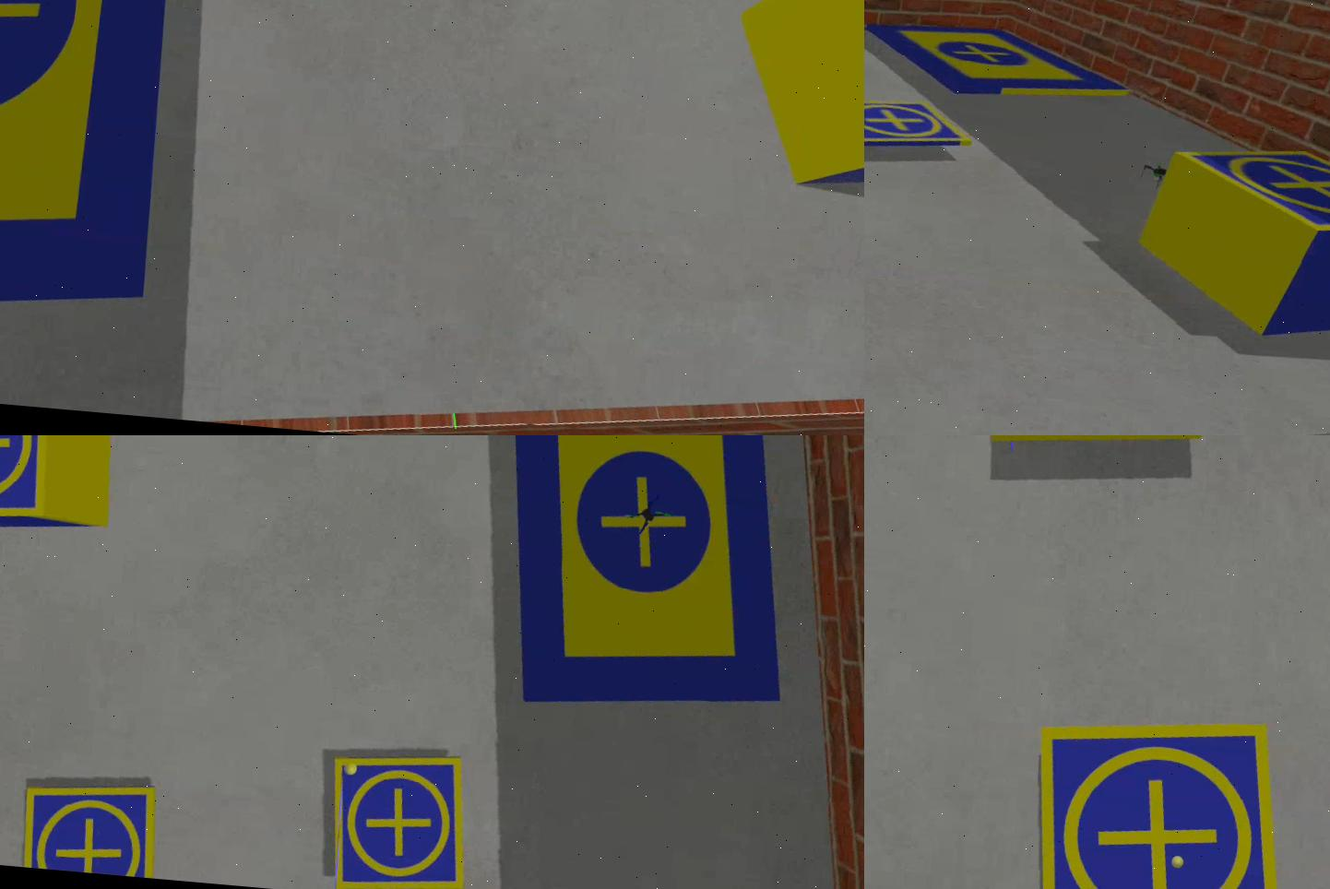large_base: (480, 436, 809, 725), (1, 1, 190, 351), (865, 14, 1137, 110)
small_base: (1020, 705, 1306, 889), (320, 746, 474, 889), (1168, 143, 1330, 248), (20, 773, 160, 881), (865, 96, 973, 160), (988, 436, 1207, 460)
